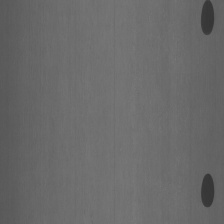oil_spot: (197, 0, 216, 43), (199, 165, 214, 215)
